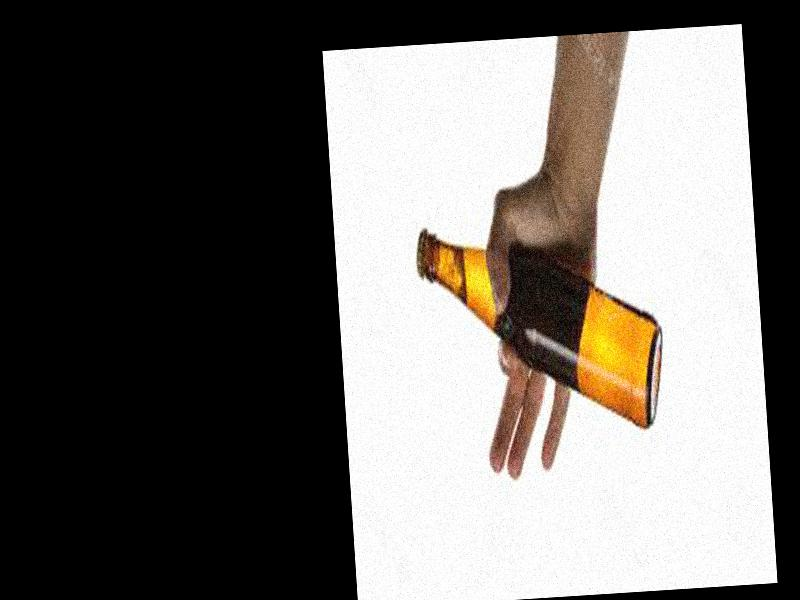Beer: (420, 219, 666, 436)
